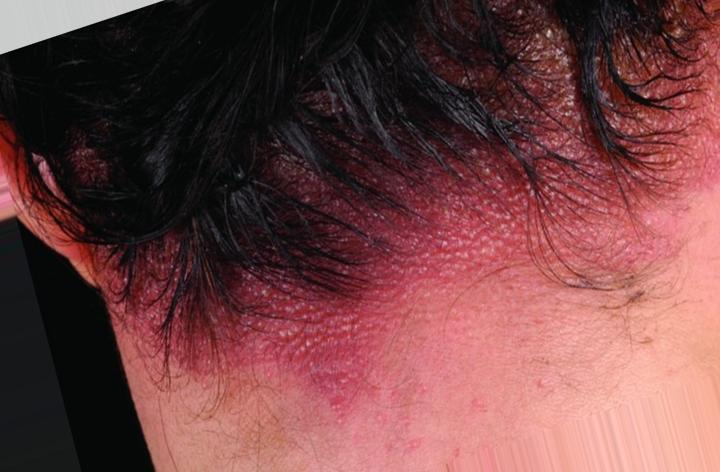Contact Dermatitis: (160, 105, 695, 338)
